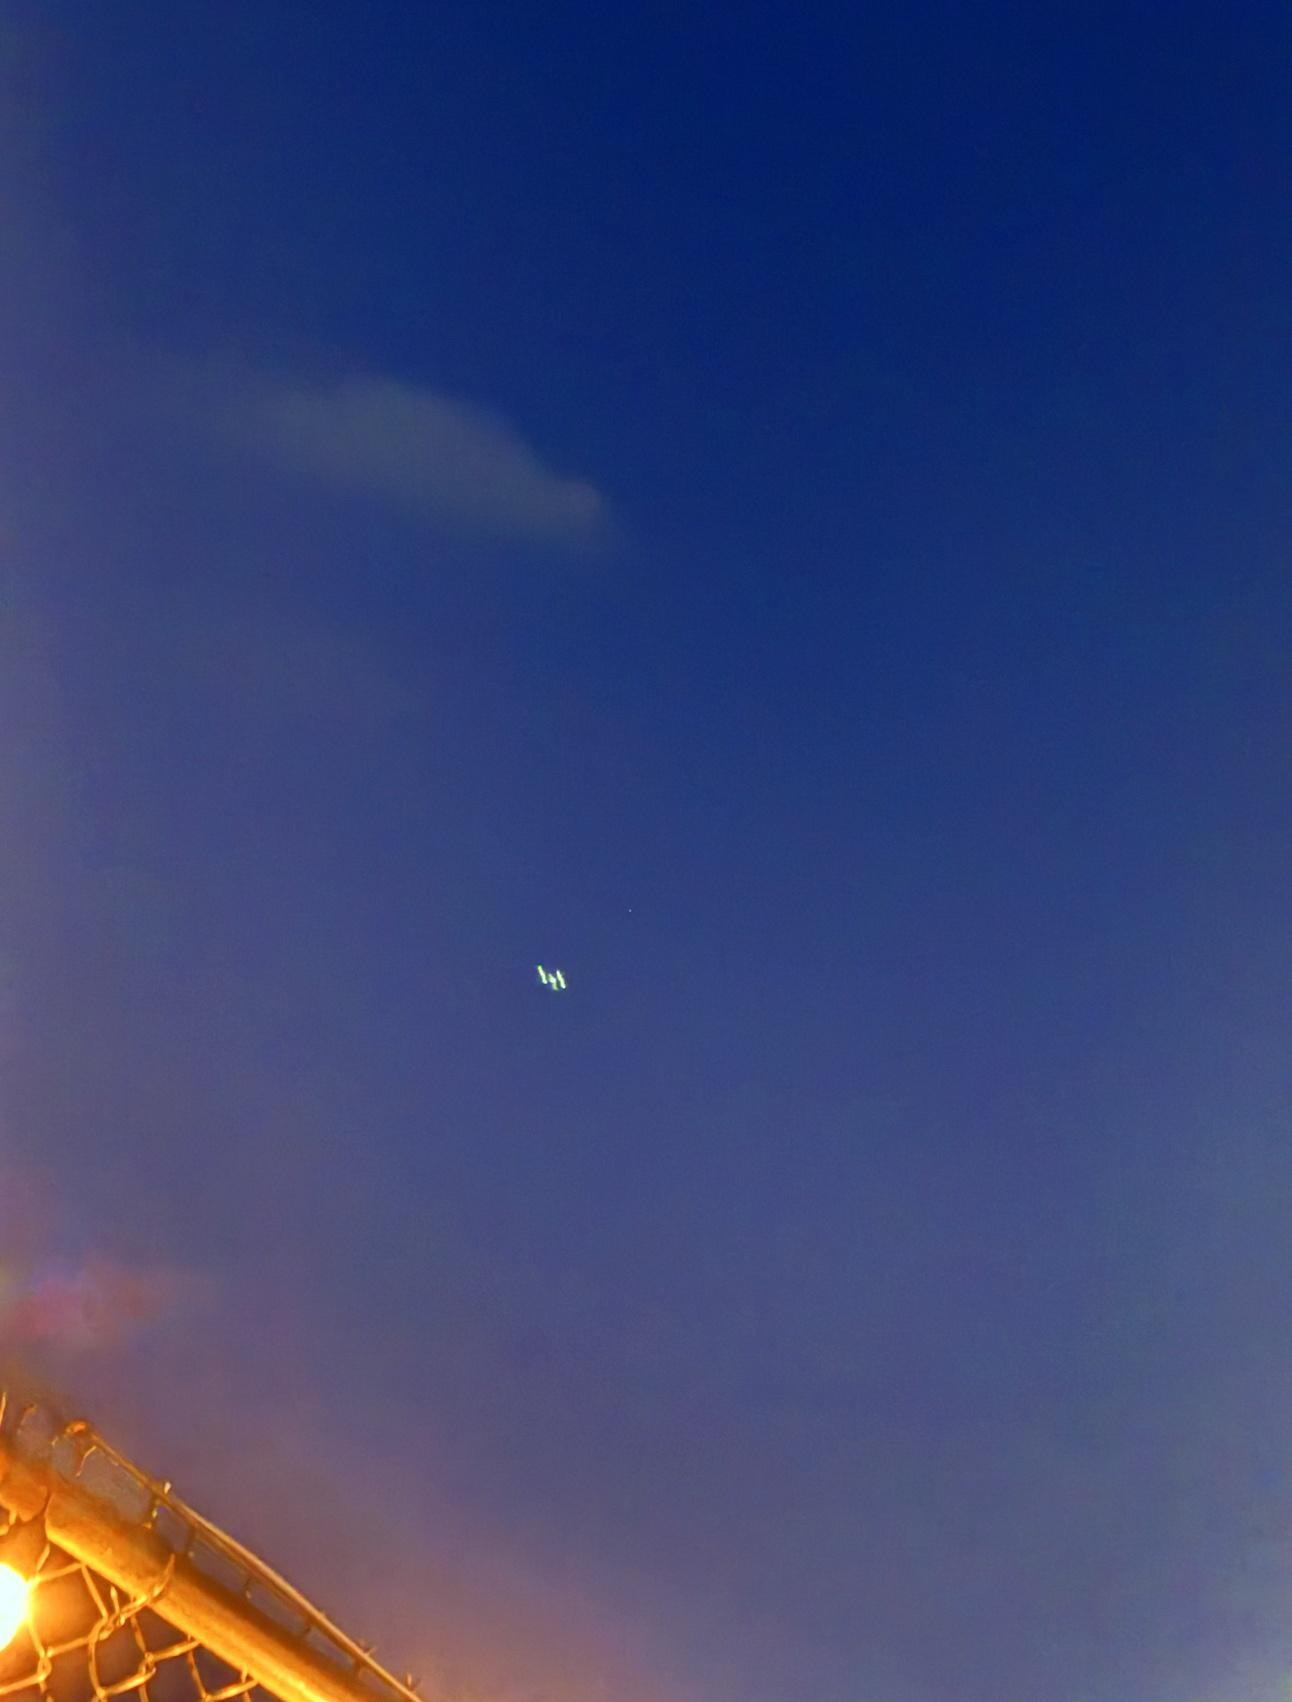Plane: (503, 945, 604, 1011)
